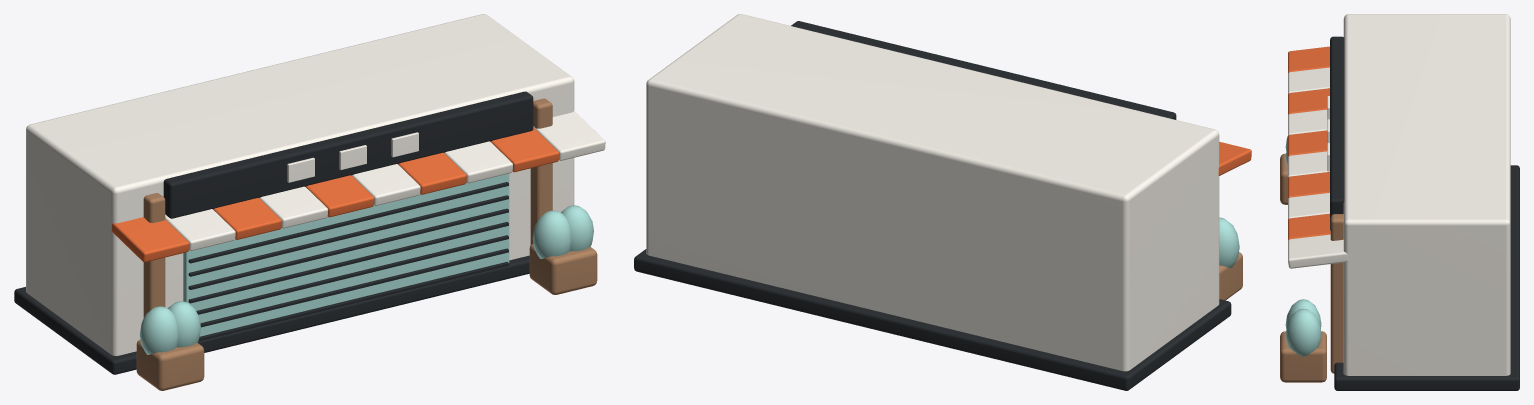
File: storefront.glb
The picture shows the model from 3 angles, left to right: view 1: azimuth 30°, elevation 25°; view 2: azimuth 150°, elevation 25°; view 3: azimuth 270°, elevation 25°; orthographic projection. The views are drawn at different scales.
Visible parts, largest first — view 1: awning.011, shop_foot.001, foliage.004, awning.010, planter.002; view 2: awning.011, shop_foot.001, foliage.004, planter.002, awning.010; view 3: awning.011, shop_foot.001, awning.010, planter.002, foliage.004.
Boxes of the visible parts, x1,y1,x2,y2 form: awning.011: (26, 14, 605, 355); shop_foot.001: (14, 91, 533, 374); foliage.004: (140, 173, 593, 354); awning.010: (111, 127, 559, 262); planter.002: (136, 98, 597, 390); awning.011: (646, 14, 1219, 371); shop_foot.001: (634, 21, 1231, 390); foliage.004: (1219, 217, 1239, 267); planter.002: (1219, 252, 1242, 300); awning.010: (1218, 142, 1251, 175); awning.011: (1288, 14, 1510, 375); shop_foot.001: (1330, 36, 1519, 390); awning.010: (1288, 46, 1330, 240); planter.002: (1280, 153, 1343, 382); foliage.004: (1285, 136, 1321, 356).
Bounding box in the file's own units: 8.2 × 3 × 3.88.
